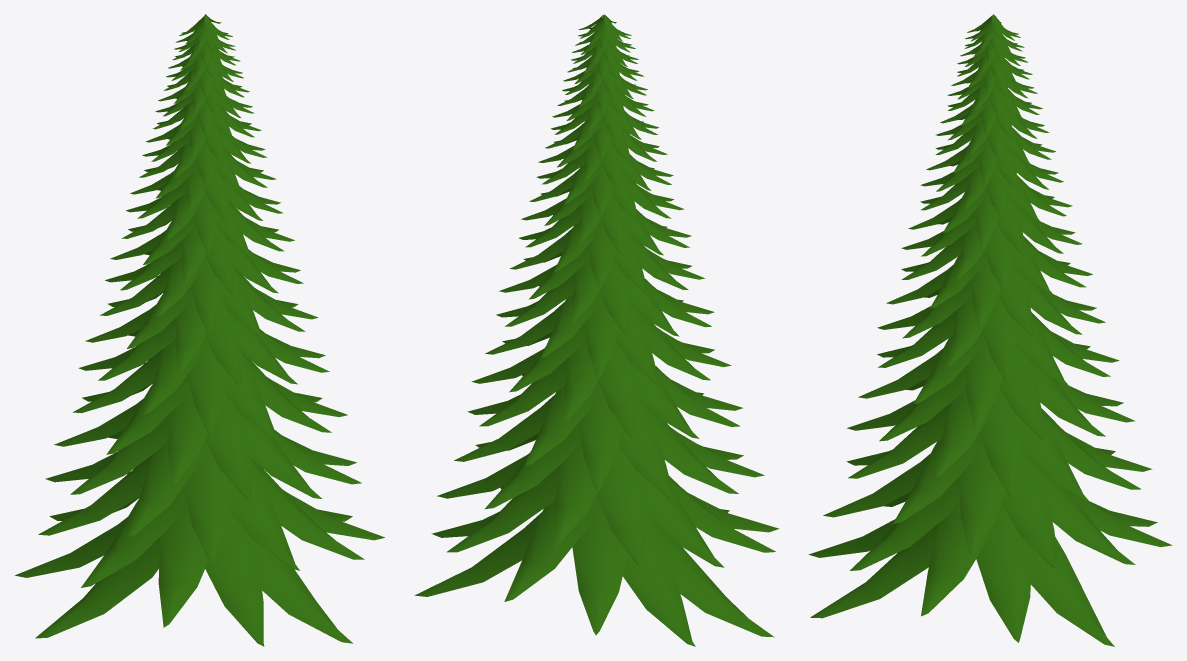
The model's file is EvergreenTree.fbx.
3 views of the same model, side by side, from view 1: azimuth 30°, elevation 25°; view 2: azimuth 150°, elevation 25°; view 3: azimuth 270°, elevation 25° (orthographic).
Visible parts, largest first — view 1: EvergreenLeaves; view 2: EvergreenLeaves; view 3: EvergreenLeaves.
Part boxes in pixels (x1,y1,x2,y2): EvergreenLeaves: (14,14,384,646); EvergreenLeaves: (414,14,779,646); EvergreenLeaves: (808,14,1172,646).
Size of the model in its own units: 697 by 1173 by 664.
